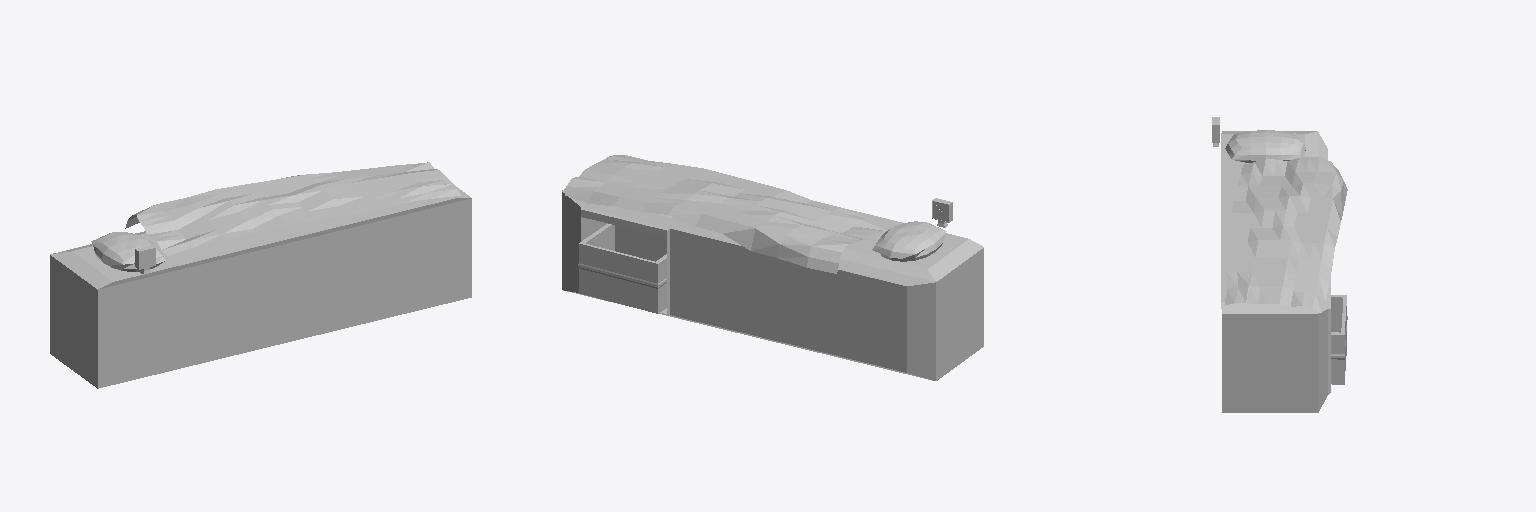
The model's file is bed.obj.
The picture shows the model from 3 angles: view 1: azimuth 30°, elevation 25°; view 2: azimuth 150°, elevation 25°; view 3: azimuth 270°, elevation 25°; orthographic projection.
Parts seen in each view (by area): view 1: pCube29, pPlane5, pCube72; view 2: pCube29, pPlane5, polySurface32 polySurface12, pCube72; view 3: pPlane5, pCube29, pCube72, polySurface32 polySurface12.
Boxes of the visible parts, <box> form: pCube29: <box>50,184,471,388</box>; pPlane5: <box>125,162,460,255</box>; pCube72: <box>91,232,165,271</box>; pCube29: <box>562,155,983,380</box>; pPlane5: <box>565,155,890,273</box>; polySurface32 polySurface12: <box>578,224,666,313</box>; pCube72: <box>872,221,946,261</box>; pPlane5: <box>1223,157,1347,312</box>; pCube29: <box>1221,131,1330,412</box>; pCube72: <box>1225,130,1305,162</box>; polySurface32 polySurface12: <box>1331,295,1347,384</box>.
Size of the model in its own units: 11.62 by 3.9 by 3.64.